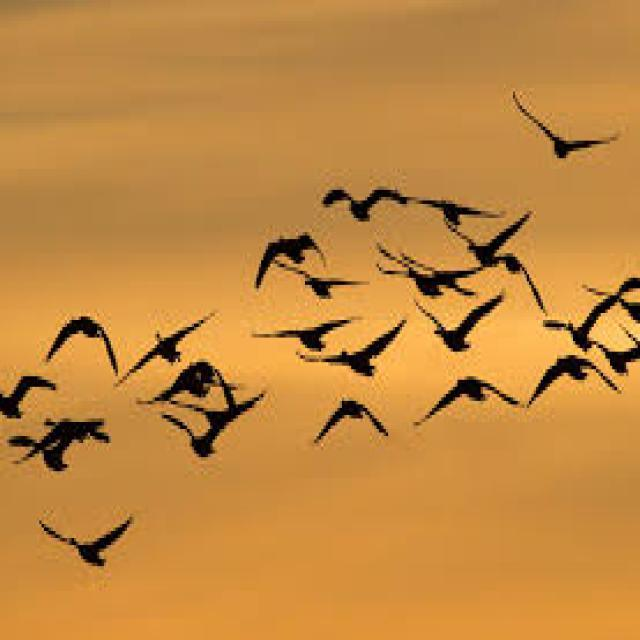bird: (500, 86, 623, 185), (28, 524, 152, 605), (305, 160, 414, 252), (368, 234, 501, 306), (148, 390, 275, 460), (526, 280, 634, 360), (217, 216, 333, 287), (396, 374, 540, 431), (417, 283, 503, 375), (114, 355, 260, 403), (304, 392, 412, 455), (127, 296, 203, 376), (42, 292, 114, 376), (11, 406, 116, 463), (269, 252, 376, 304), (528, 352, 634, 404), (262, 313, 390, 355), (324, 324, 406, 384), (410, 172, 484, 229), (455, 214, 527, 264), (480, 252, 530, 298)
